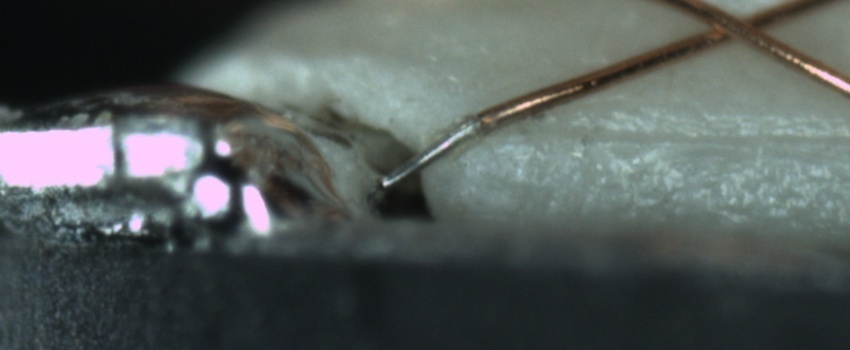CL: (691, 2, 792, 53)
DL: (489, 105, 849, 169)
TS: (383, 116, 485, 189)
TTCW: (381, 99, 521, 189)
